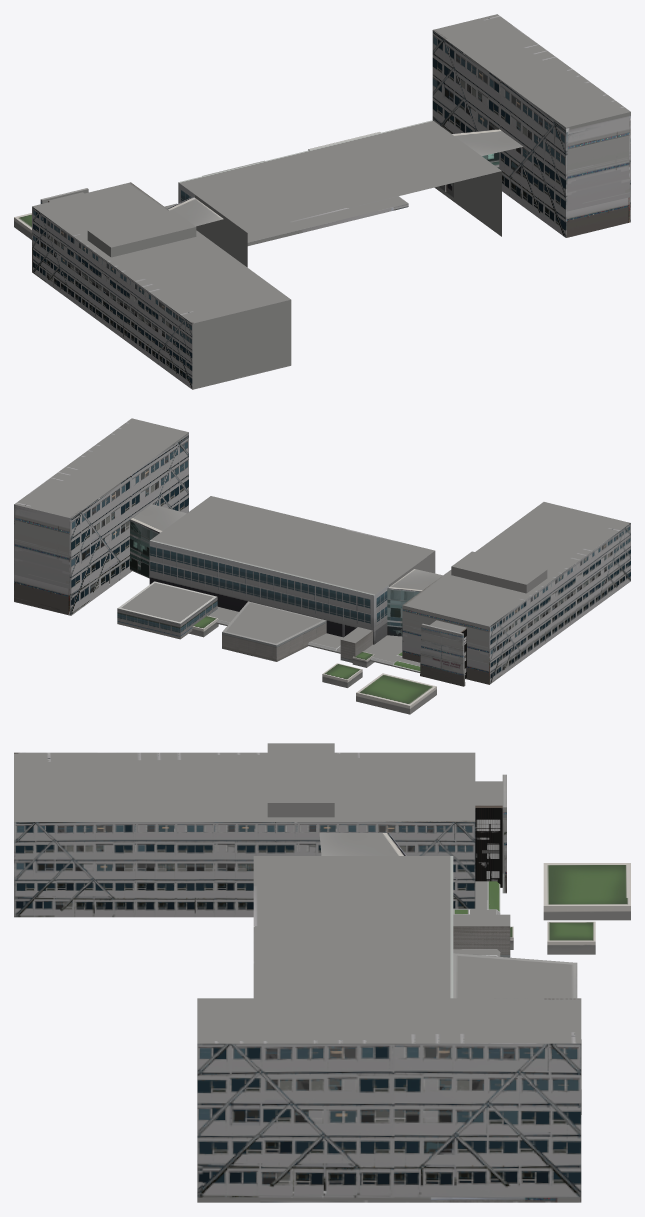
Rendered from scarfe.obj.
3 views of the same model, one above another, from view 1: azimuth 30°, elevation 25°; view 2: azimuth 150°, elevation 25°; view 3: azimuth 270°, elevation 25° (orthographic). The views are drawn at different scales.
Visible parts, largest first — view 1: scarfe4_Mesh.001, scarfe10_Mesh.001, scarfe5_Mesh.001, scarfe7_Mesh.001, scarfe15_Mesh.001, scarfe8_Mesh.001, scarfe14_Mesh.001; view 2: scarfe5_Mesh.001, scarfe10_Mesh.001, scarfe4_Mesh.001, scarfe13_Mesh.001, scarfe9_Mesh.001, scarfe6_Mesh.001, scarfe7_Mesh.001, scarfe11_Mesh.001, scarfe8_Mesh.001, scarfe15_Mesh.001, scarfe14_Mesh.001, scarfe12_Mesh.001 (+1 smaller); view 3: scarfe10_Mesh.001, scarfe4_Mesh.001, scarfe5_Mesh.001, scarfe13_Mesh.001, scarfe11_Mesh.001, scarfe7_Mesh.001, scarfe6_Mesh.001, scarfe12_Mesh.001, scarfe14_Mesh.001, scarfe2_Mesh.001, scarfe15_Mesh.001.
Boxes of the visible parts, x1,y1,x2,y2 form: scarfe4_Mesh.001: (32,182,291,389); scarfe10_Mesh.001: (432,14,630,237); scarfe5_Mesh.001: (178,120,501,267); scarfe7_Mesh.001: (87,210,196,257); scarfe15_Mesh.001: (247,196,408,245); scarfe8_Mesh.001: (445,129,522,191); scarfe14_Mesh.001: (167,196,223,226); scarfe5_Mesh.001: (149,496,435,644); scarfe10_Mesh.001: (14,418,188,615); scarfe4_Mesh.001: (402,502,630,684); scarfe13_Mesh.001: (222,601,326,661); scarfe9_Mesh.001: (117,581,217,639); scarfe6_Mesh.001: (420,620,466,686); scarfe7_Mesh.001: (451,551,547,593); scarfe11_Mesh.001: (356,673,436,714); scarfe8_Mesh.001: (130,504,186,578); scarfe15_Mesh.001: (208,607,420,672); scarfe14_Mesh.001: (387,569,442,636); scarfe12_Mesh.001: (340,627,372,662); scarfe10_Mesh.001: (197,998,581,1202); scarfe4_Mesh.001: (14,752,475,917); scarfe5_Mesh.001: (253,856,453,998); scarfe13_Mesh.001: (453,953,577,998); scarfe11_Mesh.001: (543,863,630,920); scarfe7_Mesh.001: (267,743,334,817); scarfe6_Mesh.001: (475,774,506,893); scarfe12_Mesh.001: (453,914,510,957); scarfe14_Mesh.001: (319,833,406,855); scarfe2_Mesh.001: (547,921,595,954); scarfe15_Mesh.001: (453,881,500,956).
Bounding box in the file's own units: 0.0853 × 0.0183 × 0.0631.
